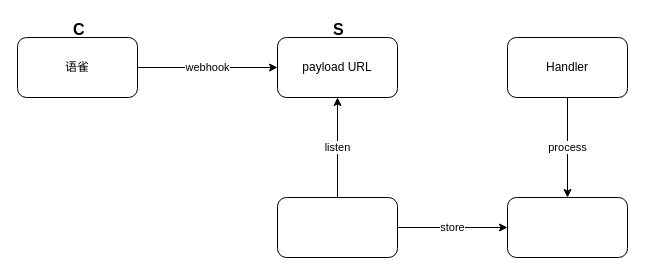
Image size: 645x275. Some labels were removed from this diagram. Each missing label, with the centre of its shape:
"DB" belongs at [567,227].
"webhook Handler" belongs at [337,227].
